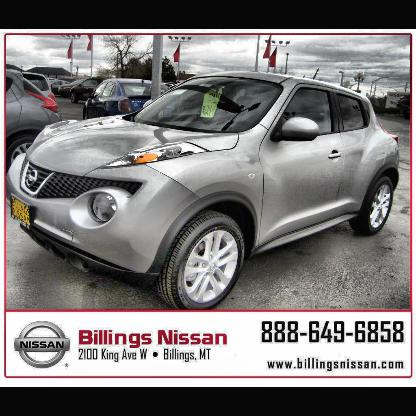Nissan Juke Hatchback 2012: (7, 74, 399, 311)
